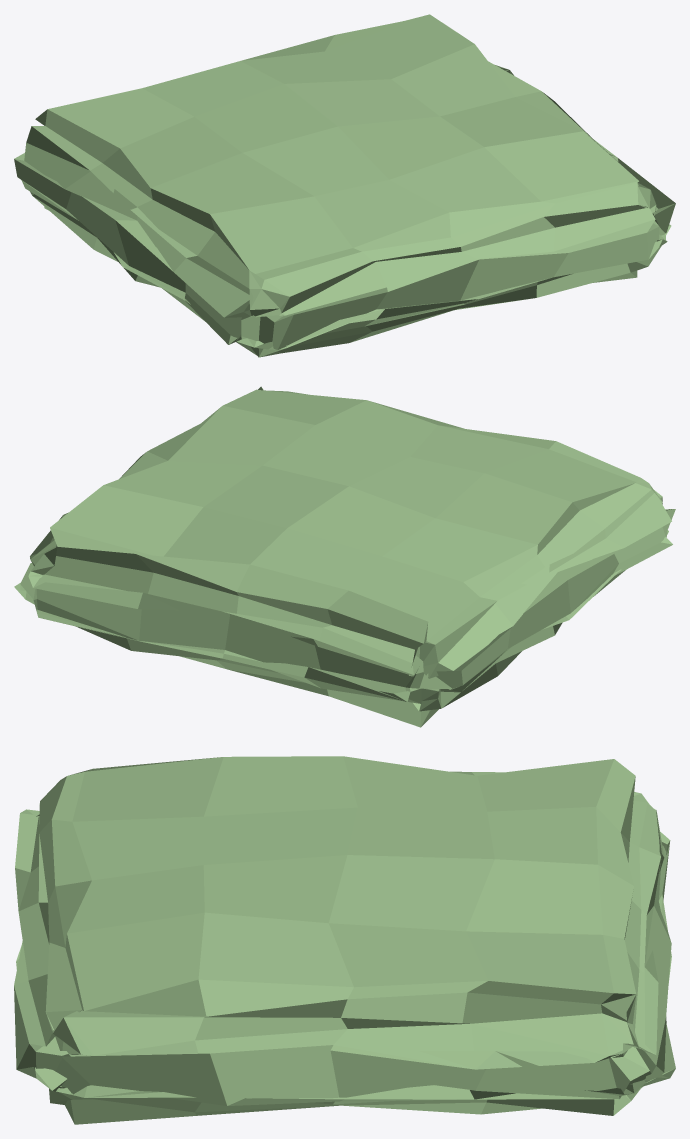
Rendered from golem_moss_patch_01.glb.
3 renders of one model, top to bottom at view 1: azimuth 30°, elevation 25°; view 2: azimuth 150°, elevation 25°; view 3: azimuth 270°, elevation 25°, orthographic. The views are drawn at different scales.
Visible parts, largest first — view 1: golem_moss_patch; view 2: golem_moss_patch; view 3: golem_moss_patch.
Part boxes in pixels (left/top/right/bottom): golem_moss_patch: left=14, top=14, right=675, bottom=357; golem_moss_patch: left=14, top=386, right=675, bottom=727; golem_moss_patch: left=14, top=756, right=675, bottom=1124.
Bounding box in the file's own units: 0.8432 × 0.2123 × 0.8428.
